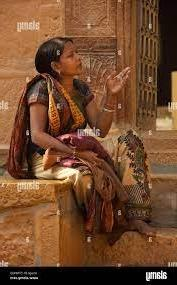Human: (11, 30, 162, 249)
